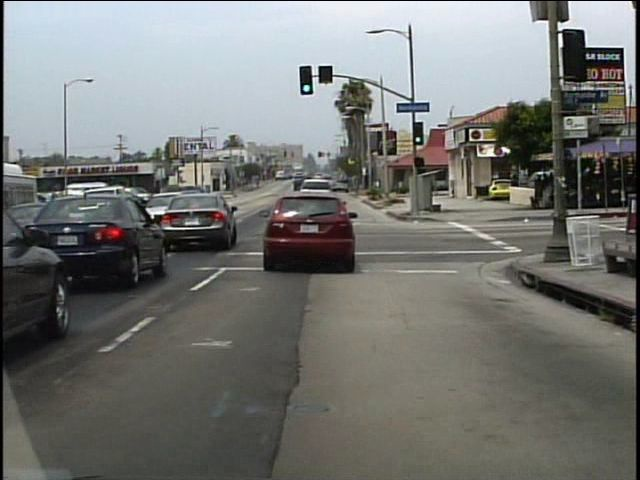person: (508, 172, 521, 206)
